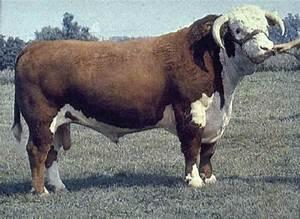cow: (10, 4, 299, 197)
